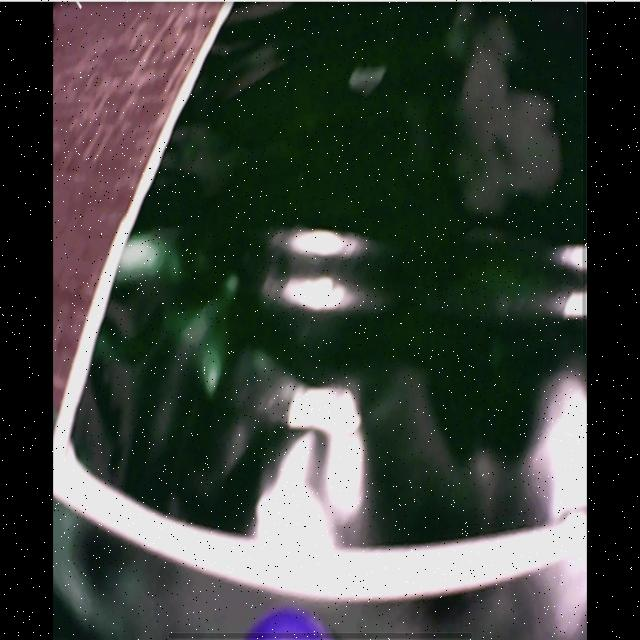ball: (247, 609, 331, 640)
